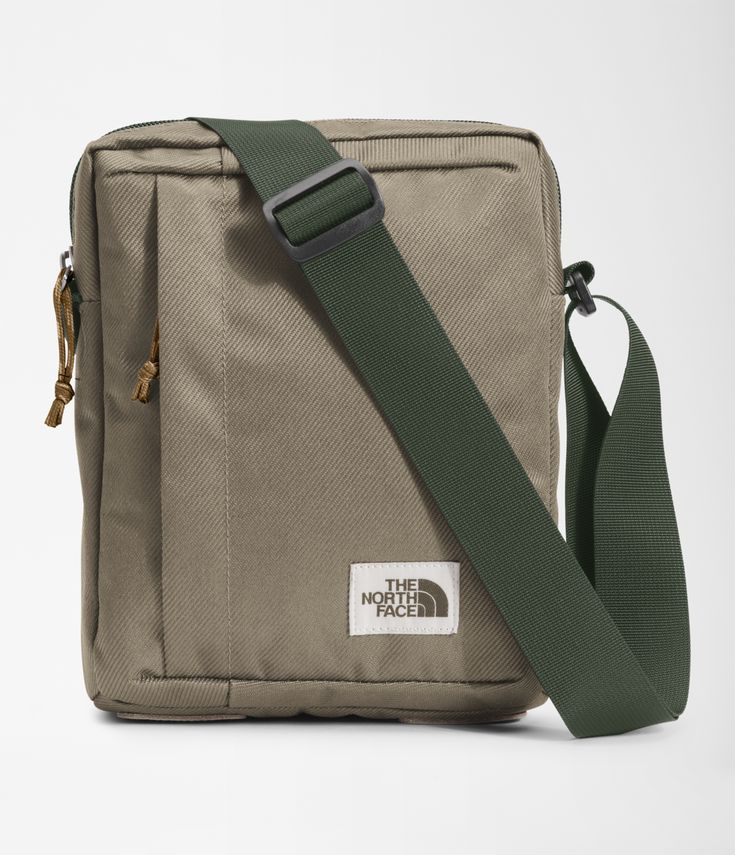nylon: (47, 117, 690, 738)
